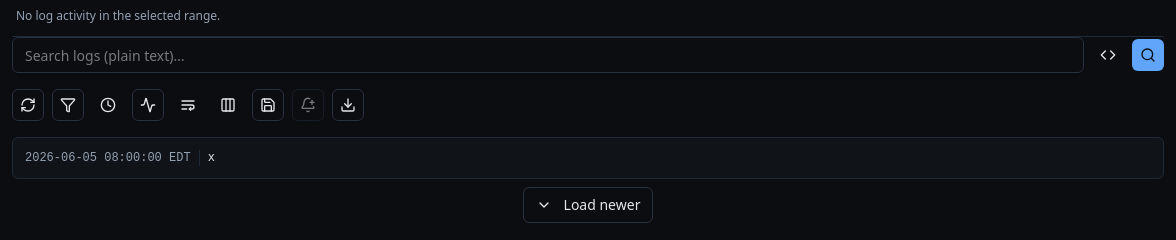
Test: LogsExplorerPage › Load newer button present when not tailing, hidden while tailing
The width and height of the screenshot is (1176, 240).
Check: the field with test id "logs-search-input" is shown, box [12, 37, 1084, 73]
Check: the button with test id "load-newer" is shown, box [523, 187, 654, 223]
Click the button with test id "logs-tail-toggle": (148, 105) [132, 89, 164, 121]
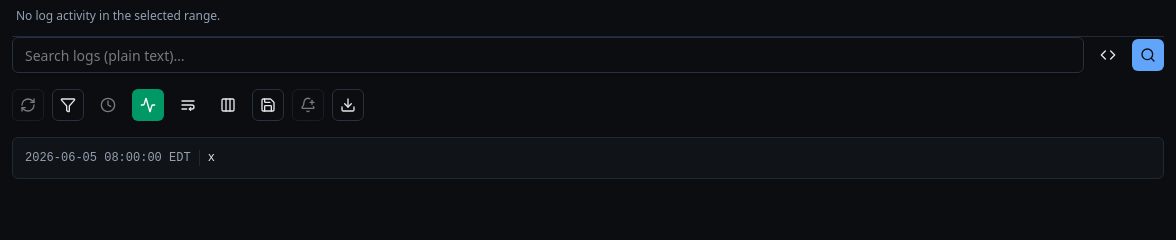
Check: the button with test id "load-newer" is gone
